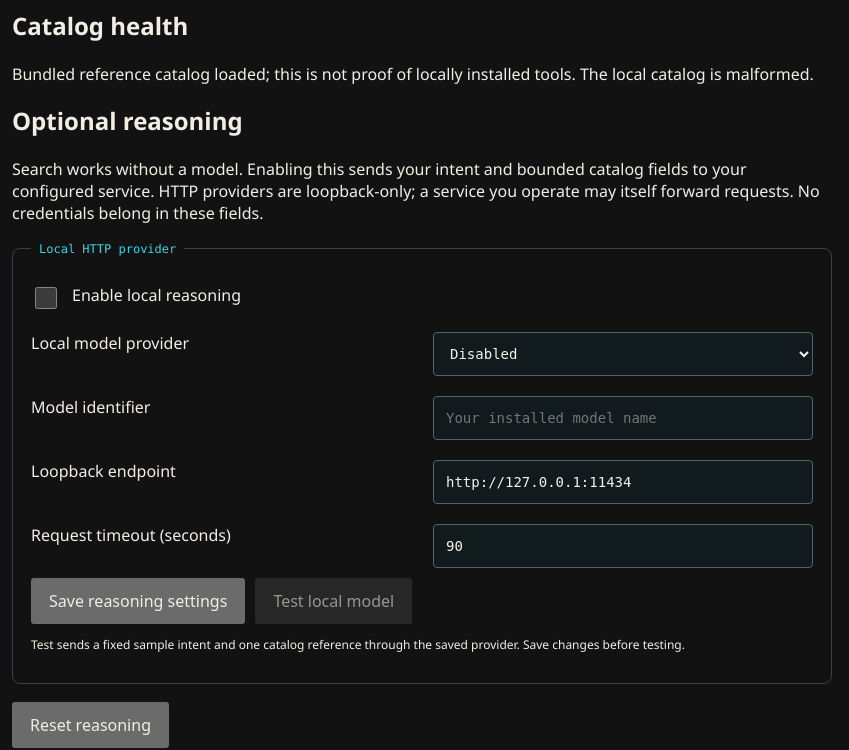
Test case: NativeSettingsPanel › refuses remote endpoints before save even when disabled
The image size is (849, 750).
Replace the text in the field labelled "Loopback endpoint" with "http://example.com:11434": (623,482) x1=433 y1=460 x2=813 y2=504
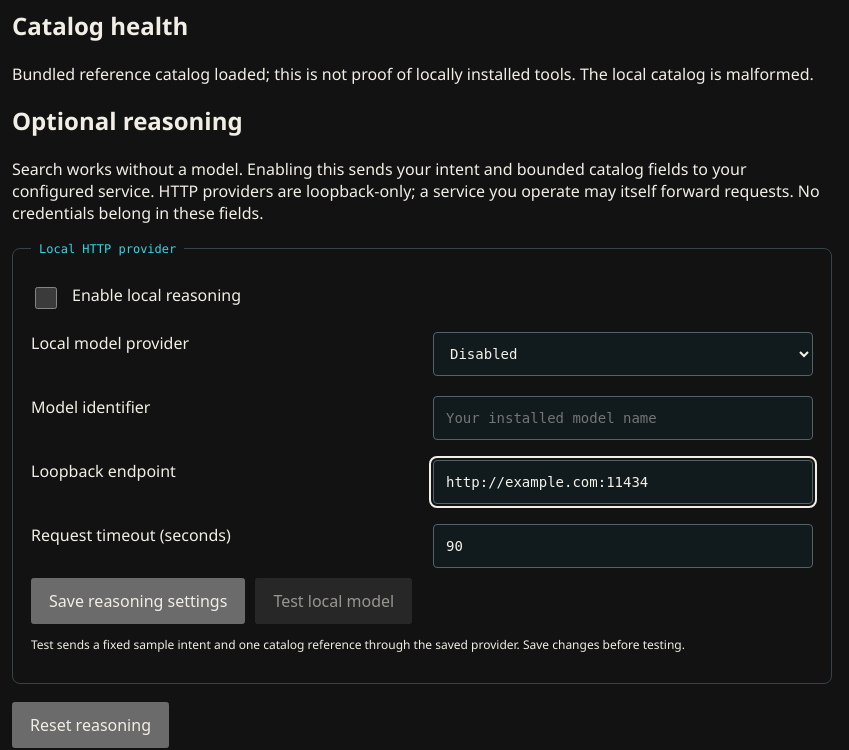
Click the button "Save reasoning settings": (138,601) x1=31 y1=578 x2=245 y2=624
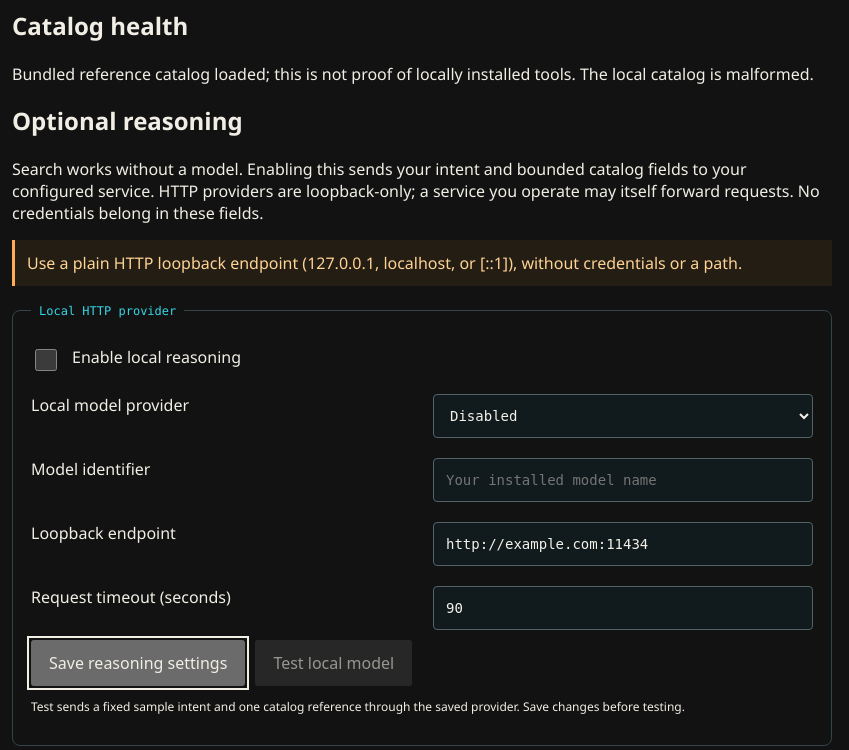
Now the message shows "loopback", box x1=27 y1=252 x2=742 y2=274
